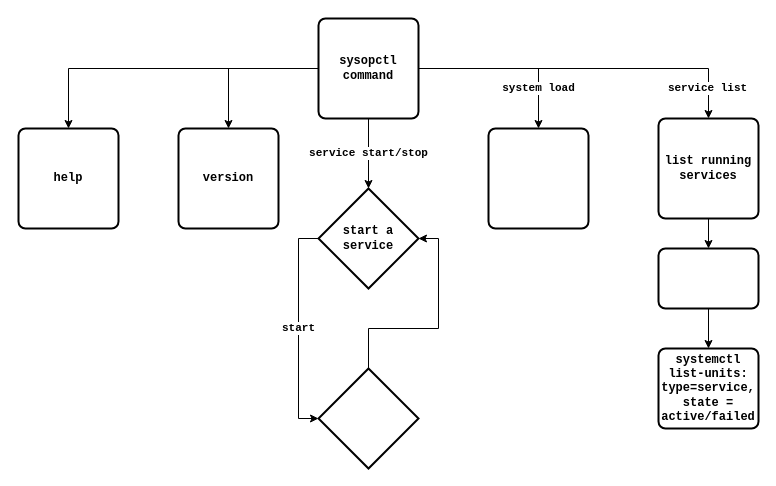
Some shapes in this 776 by 486 pixel diagram are drawn without their labels. The centre of each missing label's shape, as x and y in pixels:
"stop a service" belongs at point 368,418.
"systemctl list-units: type=service" belongs at point 708,278.
"view system load averages" belongs at point 538,178.
